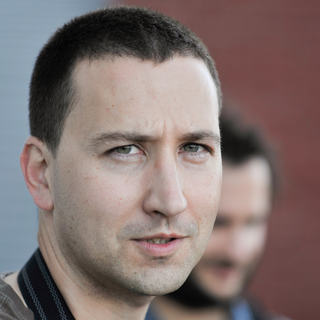eye: (95, 134, 149, 169), (169, 132, 217, 164)
